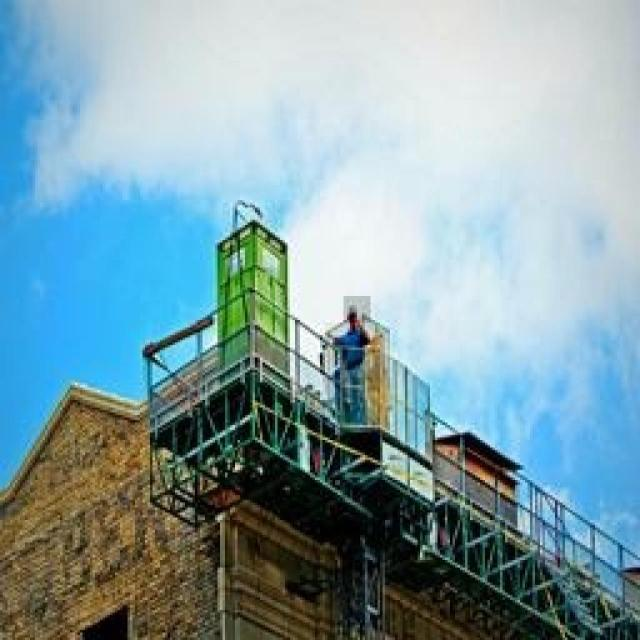Helmet: (325, 322, 380, 380), (344, 296, 371, 340)
